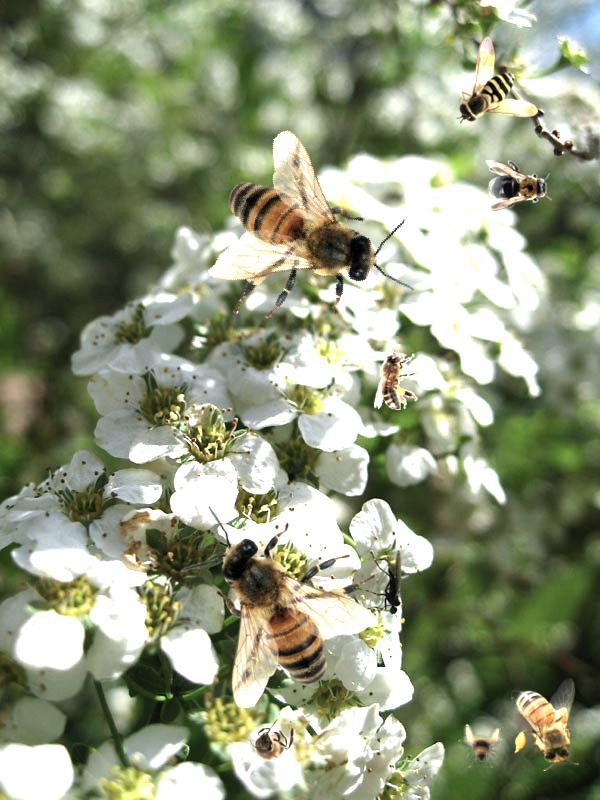Bee: (165, 98, 440, 376), (179, 505, 378, 709), (456, 36, 538, 124), (511, 678, 579, 771), (239, 712, 302, 784), (484, 160, 552, 212), (374, 344, 419, 410), (458, 724, 502, 768)
